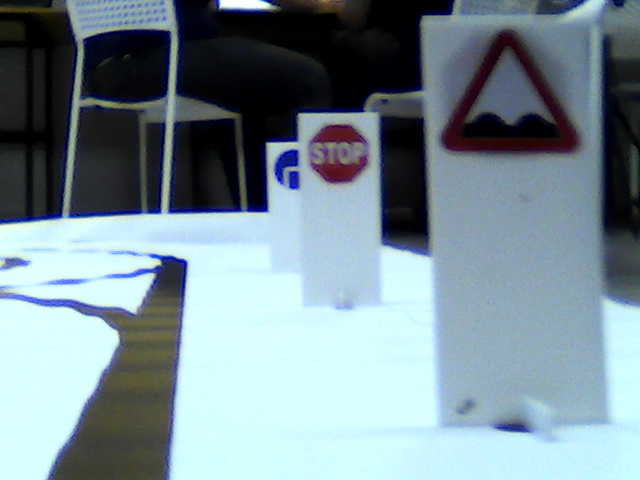Nerov: (441, 24, 582, 161)
Stop: (306, 116, 373, 185)
